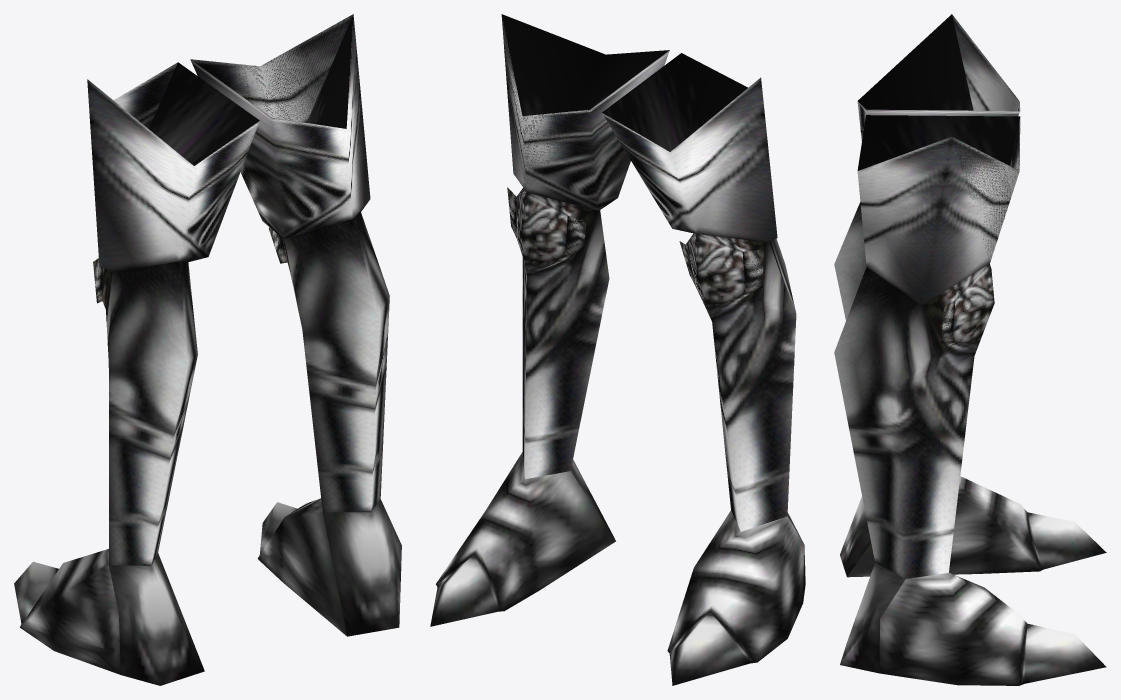
Rendered from 0_kn_boots_16.obj.
The picture shows the model from 3 angles, left to right: view 1: azimuth 30°, elevation 25°; view 2: azimuth 150°, elevation 25°; view 3: azimuth 270°, elevation 25°; orthographic projection. The views are drawn at different scales.
Visible parts, largest first — view 1: defaultobject; view 2: defaultobject; view 3: defaultobject.
Boxes of the visible parts, bbox=[...] form: defaultobject: bbox=[14, 14, 401, 685]; defaultobject: bbox=[430, 14, 805, 685]; defaultobject: bbox=[834, 14, 1106, 685].
Size of the model in its own units: 16.14 by 26.47 by 12.23.
1 material, 1 textured.
